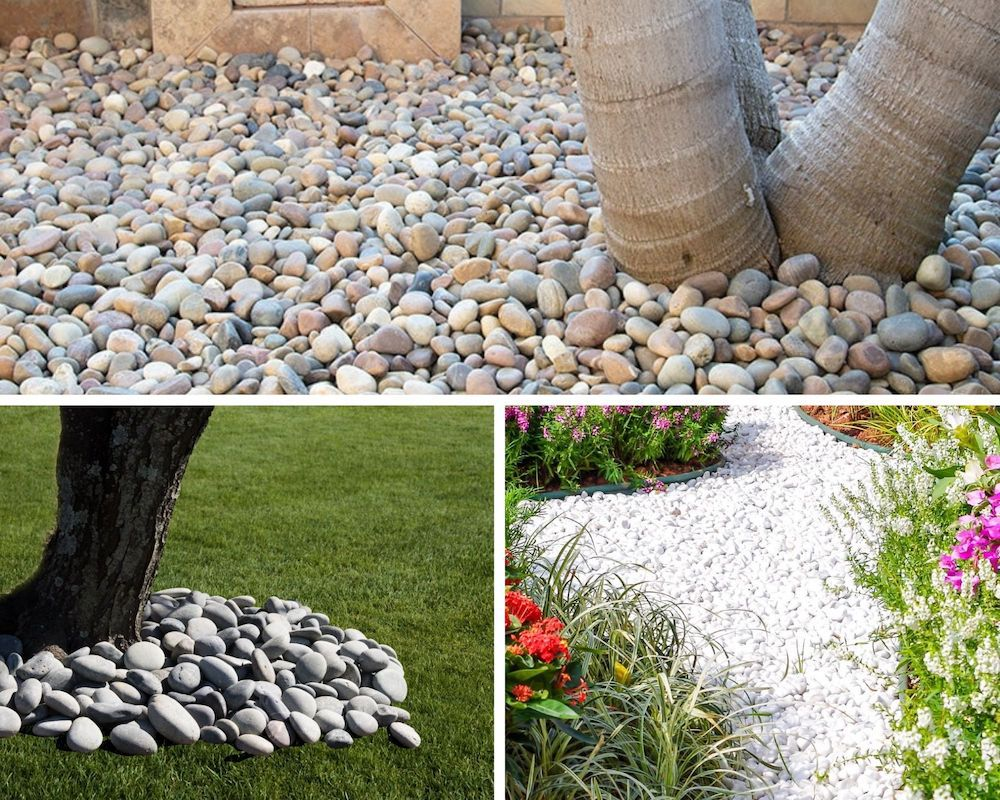grass: (215, 411, 484, 605), (8, 747, 400, 796), (395, 612, 492, 796)
rock: (8, 42, 577, 384), (3, 598, 412, 746), (585, 284, 997, 388)
tree: (569, 5, 992, 281), (3, 409, 209, 646)
